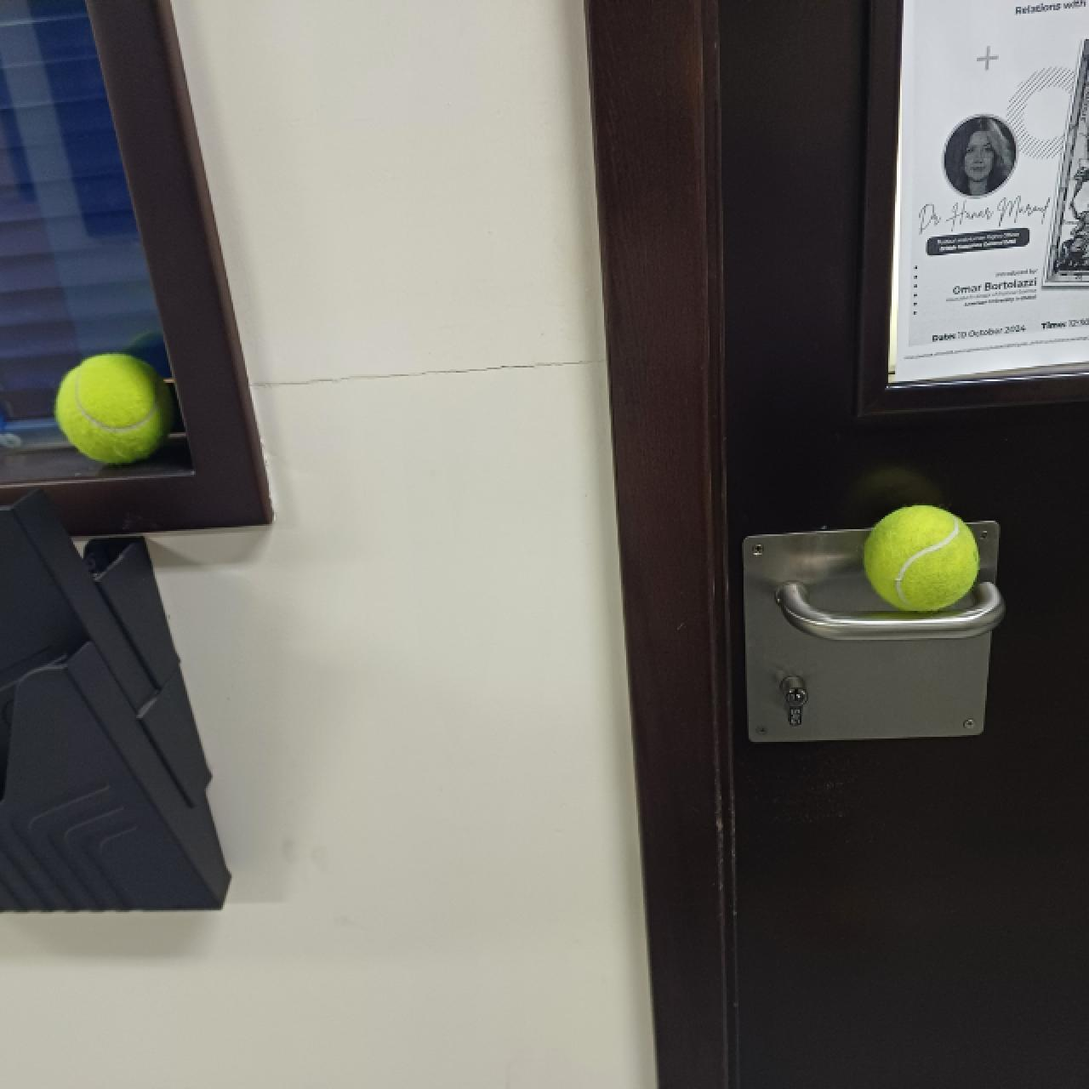tennis-ball: (863, 504, 984, 619), (54, 353, 175, 466)
